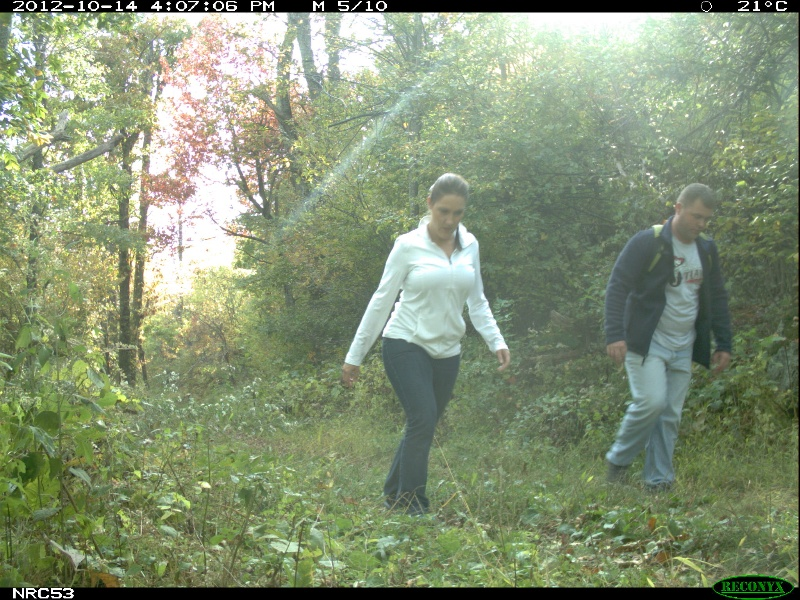human: (338, 173, 515, 530), (599, 181, 730, 495)
human face: (430, 187, 466, 241), (673, 198, 716, 241)
human legs: (377, 331, 462, 522), (609, 335, 699, 496)
